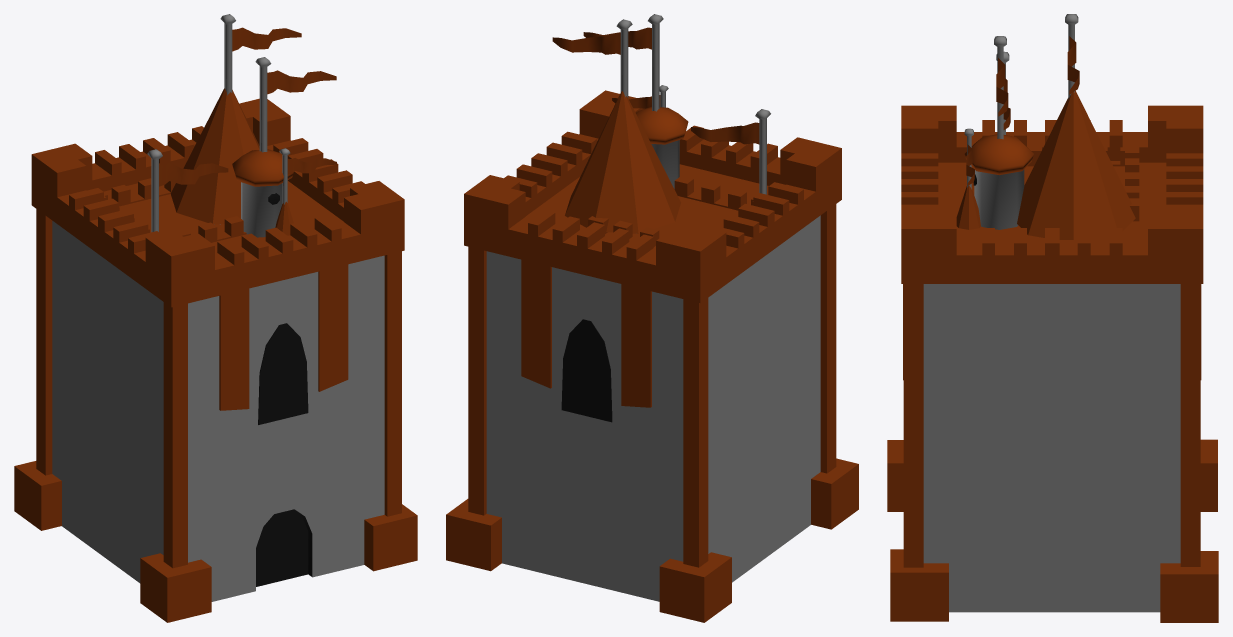
File: kasteel 3 (1).fbx
3 views of the same model, side by side, from view 1: azimuth 30°, elevation 25°; view 2: azimuth 150°, elevation 25°; view 3: azimuth 270°, elevation 25° (orthographic). The views are drawn at different scales.
Parts seen in each view (by area): view 1: kasteel 3, kasteel2, kasteel1; view 2: kasteel 3, kasteel2, kasteel1; view 3: kasteel 3, kasteel2, kasteel1.
Part boxes in pixels (left/top/right/bottom): kasteel 3: left=14, top=98, right=417, bottom=622; kasteel2: left=170, top=14, right=336, bottom=235; kasteel1: left=104, top=57, right=336, bottom=242; kasteel 3: left=446, top=90, right=858, bottom=622; kasteel2: left=552, top=19, right=680, bottom=233; kasteel1: left=583, top=14, right=770, bottom=248; kasteel 3: left=887, top=105, right=1218, bottom=622; kasteel2: left=956, top=14, right=1135, bottom=239; kasteel1: left=964, top=36, right=1139, bottom=229.
Bounding box in the file's own units: 230 × 439 × 239.
